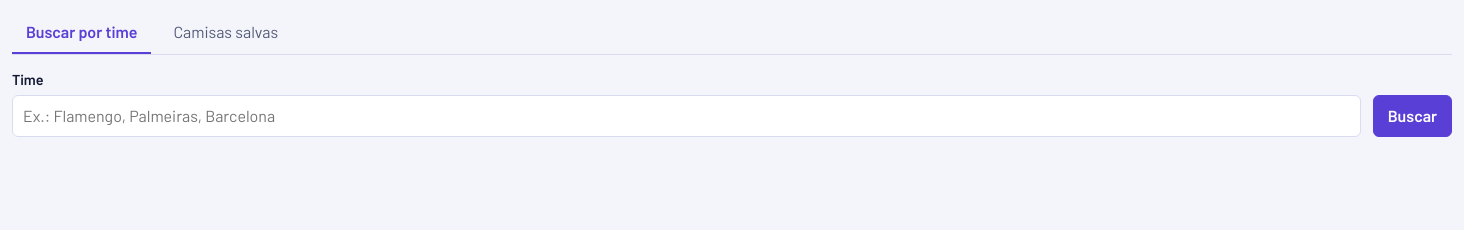
Test case: CatalogSearch (FR-006, FR-008) › fonte indisponível e nada salvo: diz que ainda dá para usar as camisas salvas
Step 1. Type "Bangu" into the field labelled "Time" → (686, 116), box [12,95,1361,137]
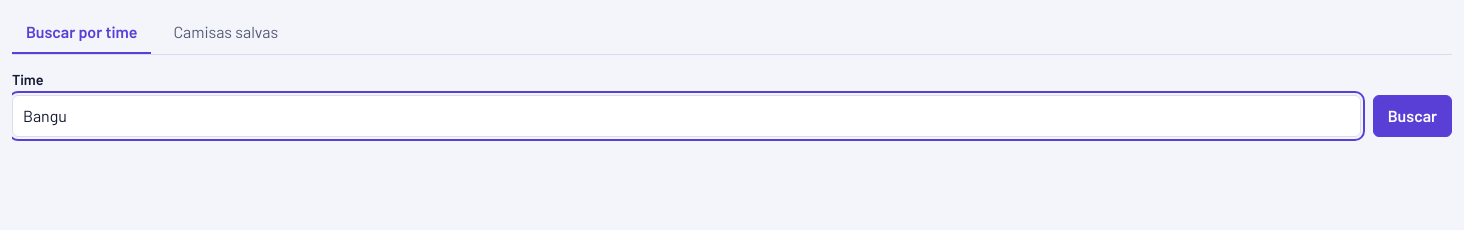
Step 2. Click the button "Buscar" → (1412, 116), box [1373,95,1452,137]
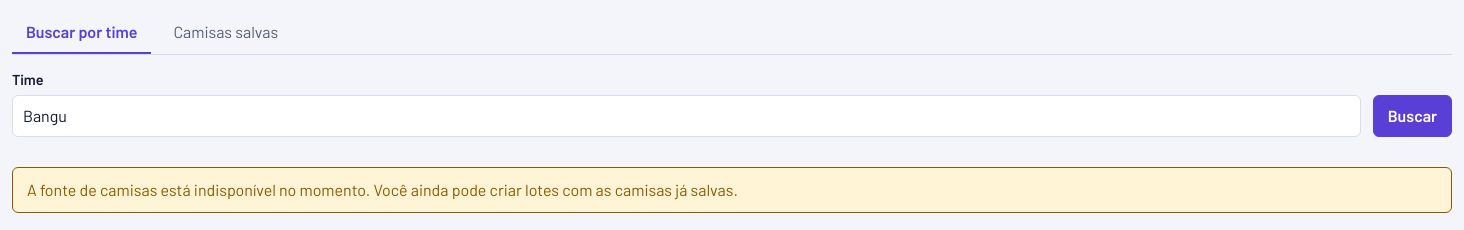
Check: the text "ainda pode criar lotes com as camisas já salvas" is shown, box [27,180,738,199]
